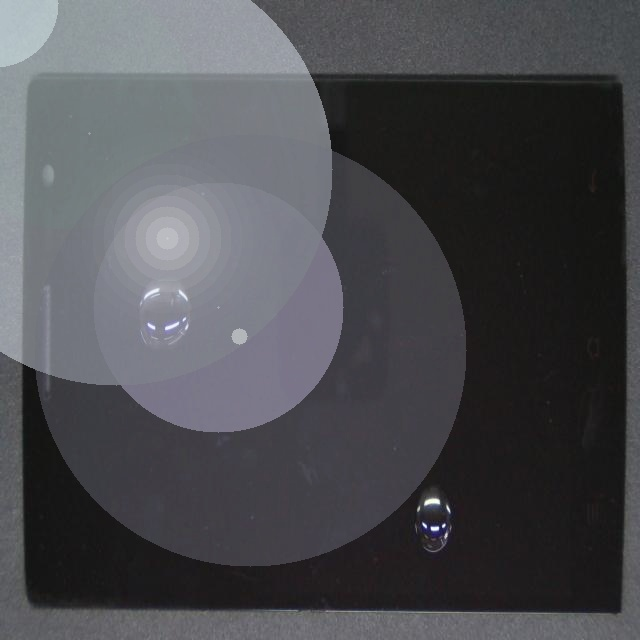oil: (234, 272, 640, 640), (109, 166, 269, 435)
